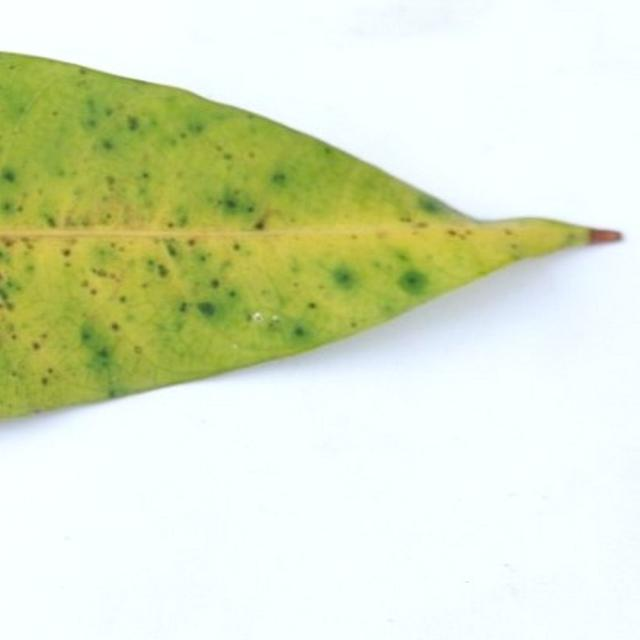Mango: (0, 52, 618, 418)
Powdery_Mildew: (77, 320, 106, 356), (0, 276, 22, 302), (401, 270, 426, 291), (333, 264, 352, 288), (419, 196, 444, 214), (90, 266, 114, 281), (220, 196, 241, 213), (149, 261, 170, 278), (196, 301, 216, 317), (1, 168, 17, 185), (186, 121, 205, 135), (1, 236, 20, 248), (126, 115, 140, 131), (271, 171, 287, 185), (166, 243, 180, 258), (43, 213, 57, 228), (253, 216, 268, 230), (374, 229, 392, 240), (107, 385, 121, 399), (293, 325, 307, 338), (101, 139, 114, 151), (105, 175, 116, 186), (415, 221, 429, 229), (178, 302, 188, 313), (509, 242, 520, 252), (32, 406, 44, 415), (210, 279, 220, 289), (110, 321, 120, 331), (446, 229, 458, 237), (399, 216, 412, 223), (61, 248, 71, 257), (133, 345, 143, 354), (187, 238, 197, 247), (41, 375, 50, 385), (248, 312, 258, 321), (503, 228, 514, 236), (232, 242, 241, 251), (32, 341, 41, 350), (223, 152, 232, 161), (349, 320, 358, 329), (227, 290, 237, 298), (77, 68, 88, 75), (166, 221, 175, 229), (271, 314, 280, 322), (118, 295, 126, 303), (141, 171, 149, 179), (46, 367, 54, 375), (89, 288, 97, 296), (248, 151, 256, 159), (81, 280, 89, 288), (308, 302, 317, 309), (350, 233, 359, 240)
